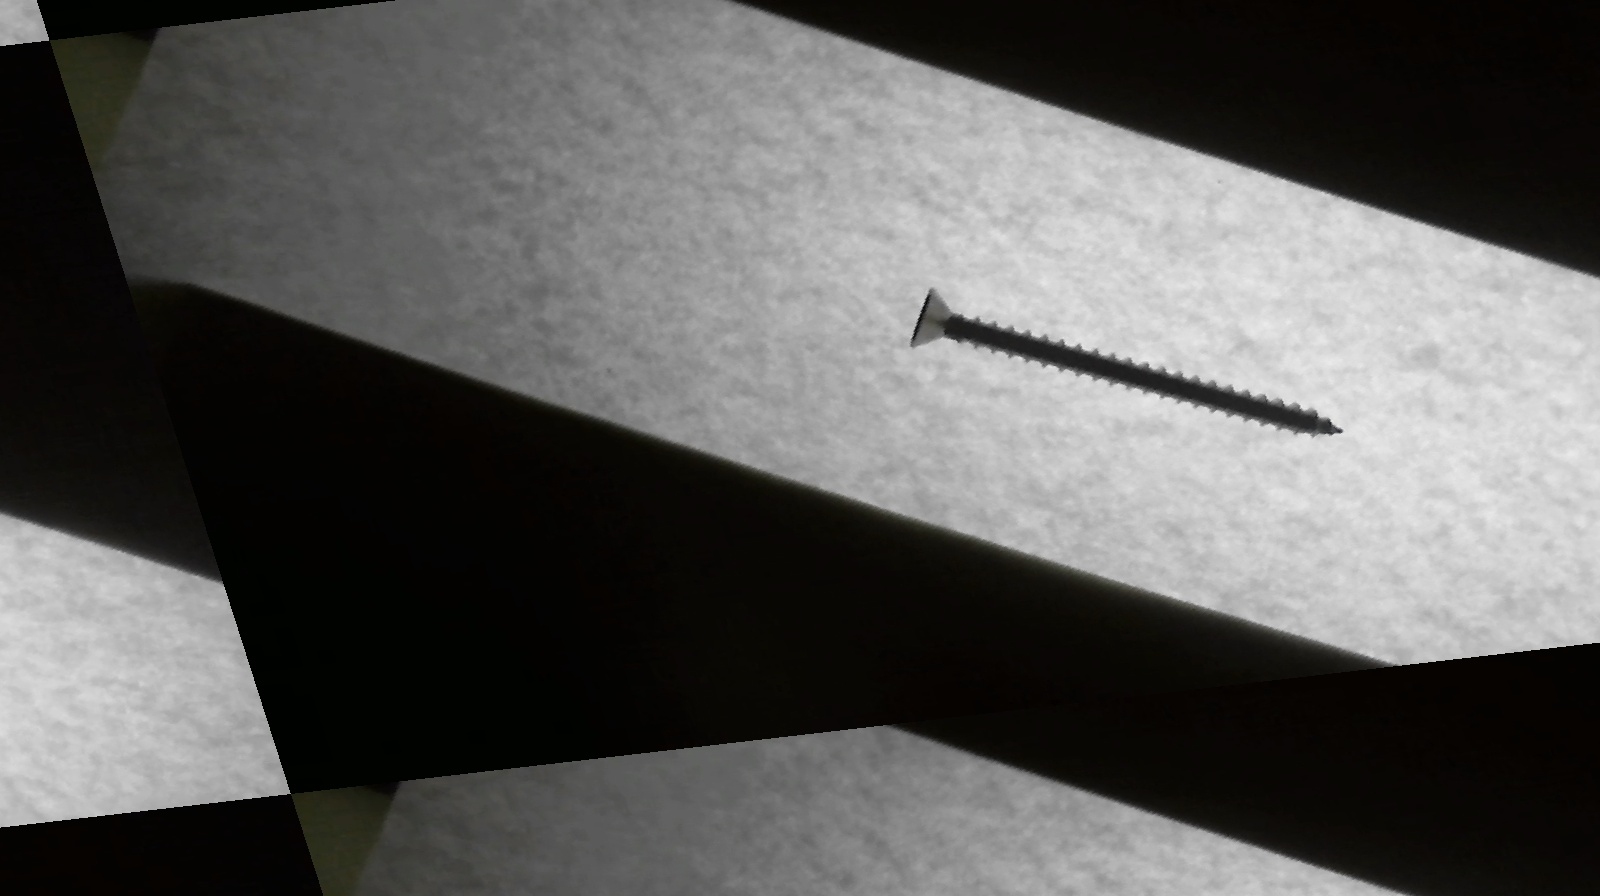S002: (871, 239, 1364, 494)
